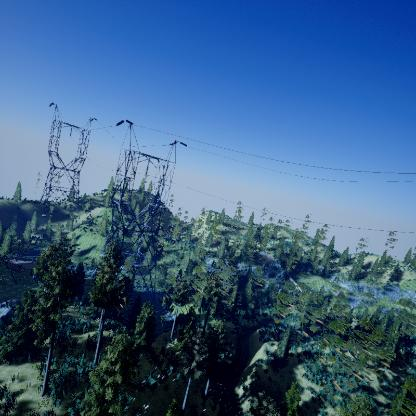tower: (104, 117, 188, 292), (39, 100, 101, 222)
